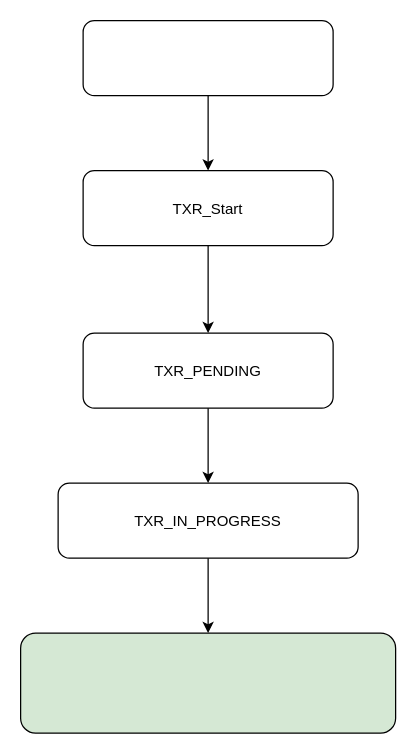
Some shapes in this 416 by 754 pixel diagram are drawn without their labels. The shapes that lost their labels are listed below. From the top down, each one's box as (x1, y1, x2, y2) in pixels, then its label:
(82, 19, 333, 96): Rake Arrive
(19, 632, 396, 733): TXR_COMPLETED\n(Wagons Marked + Memo Stored)
